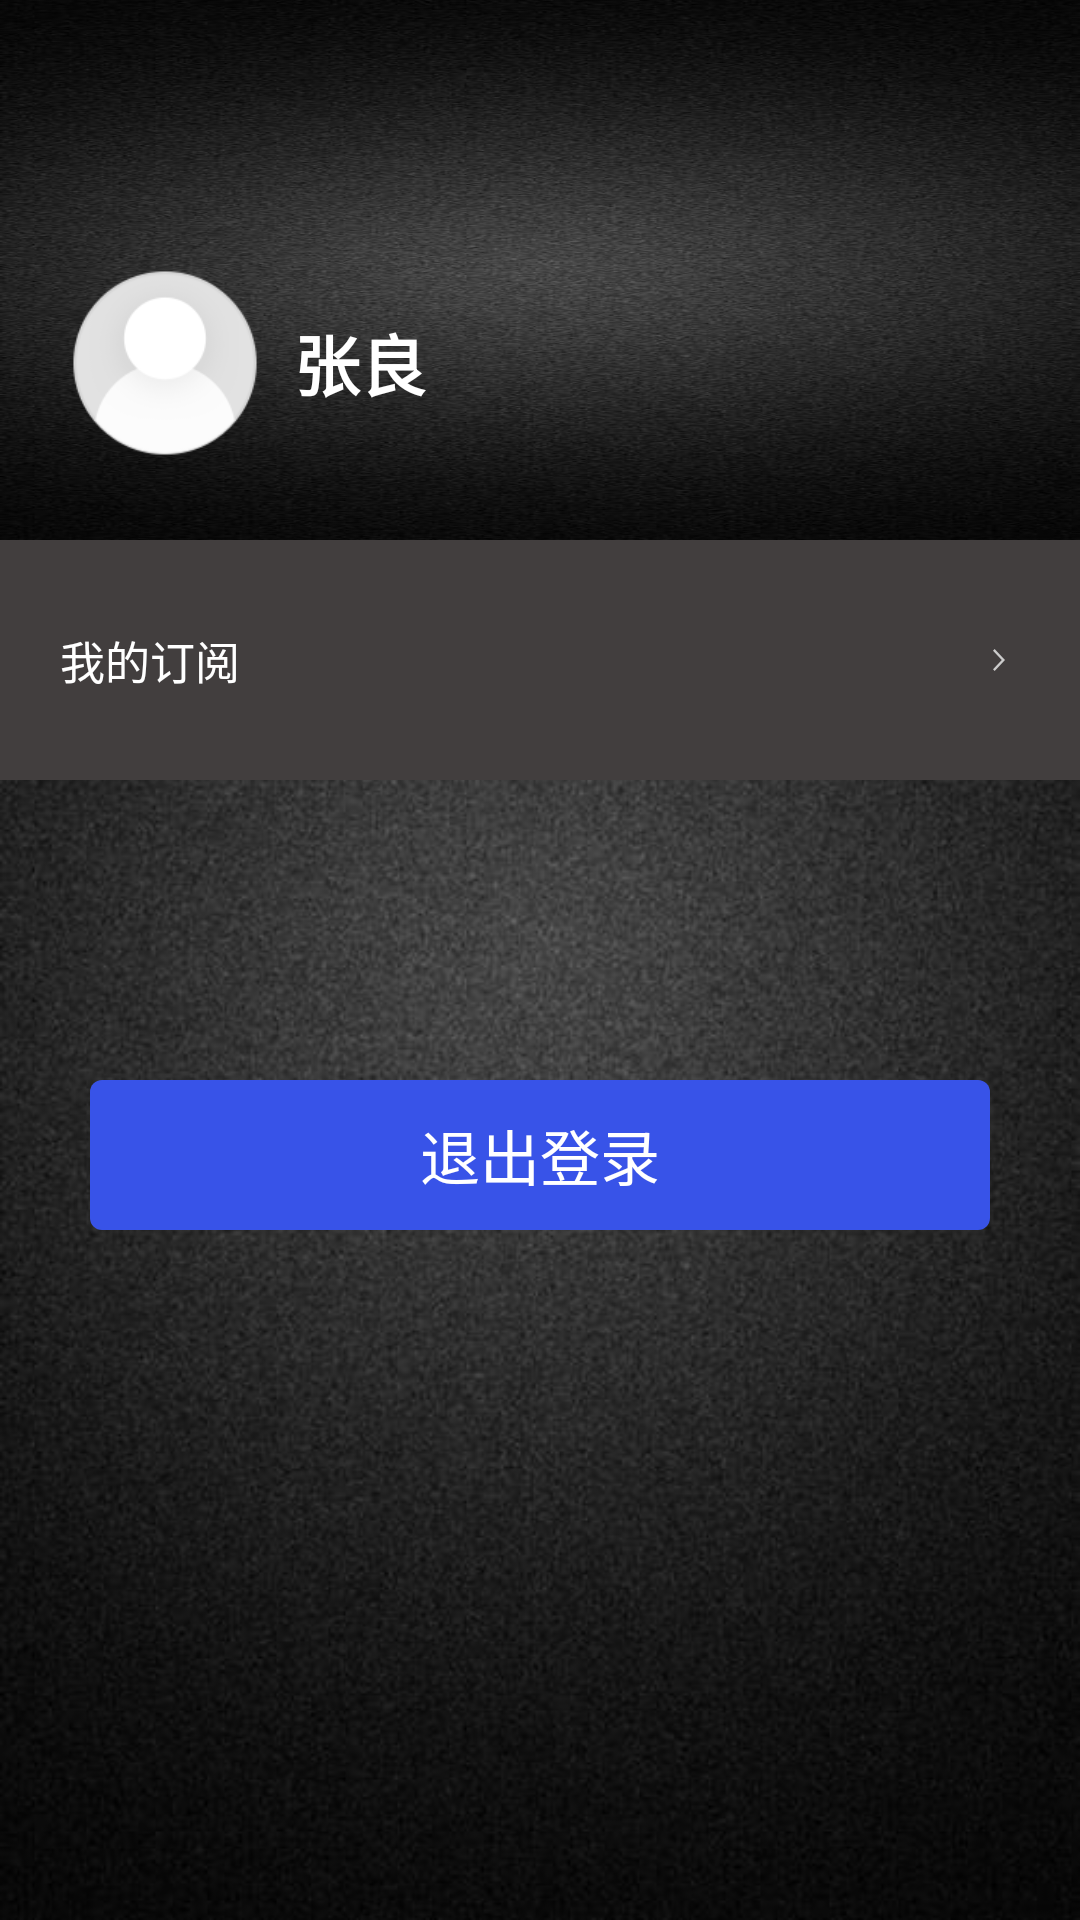

Screen size 1080w x 1920h. Icon name, then its center in pixels as [x,y]:
photo: [165,362]
